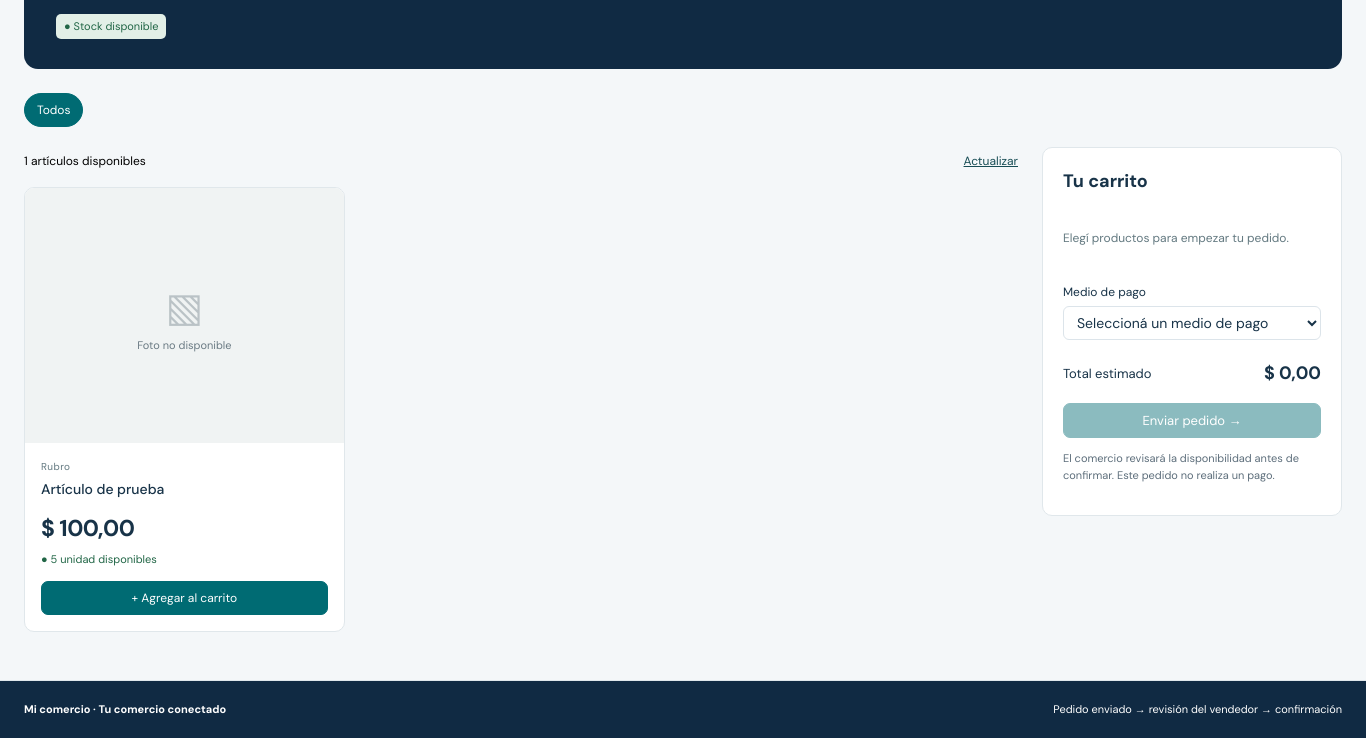
it: requires login before submitting an order
(page scrolled)
Click the button "+ Agregar al carrito": (184, 598) [41,581,328,615]
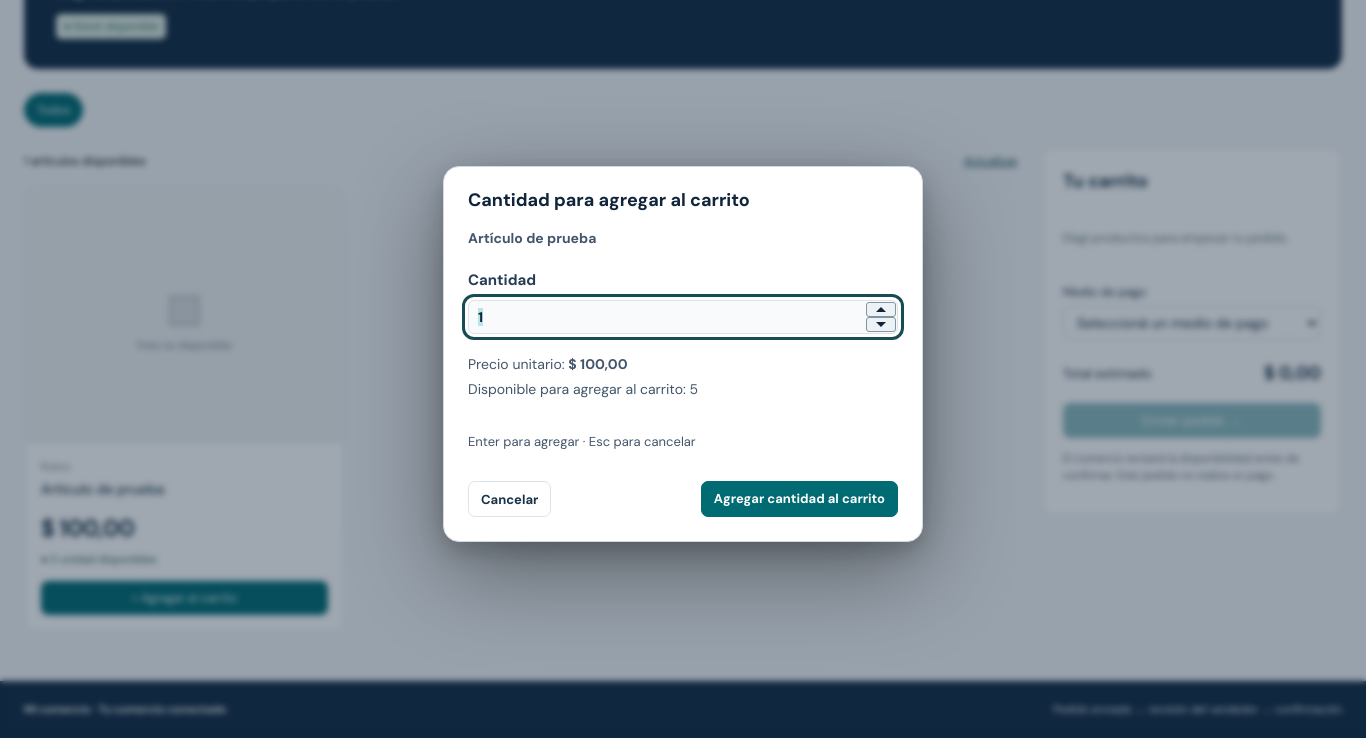
Click the button "Agregar cantidad al carrito": (799, 499) [701,481,898,517]
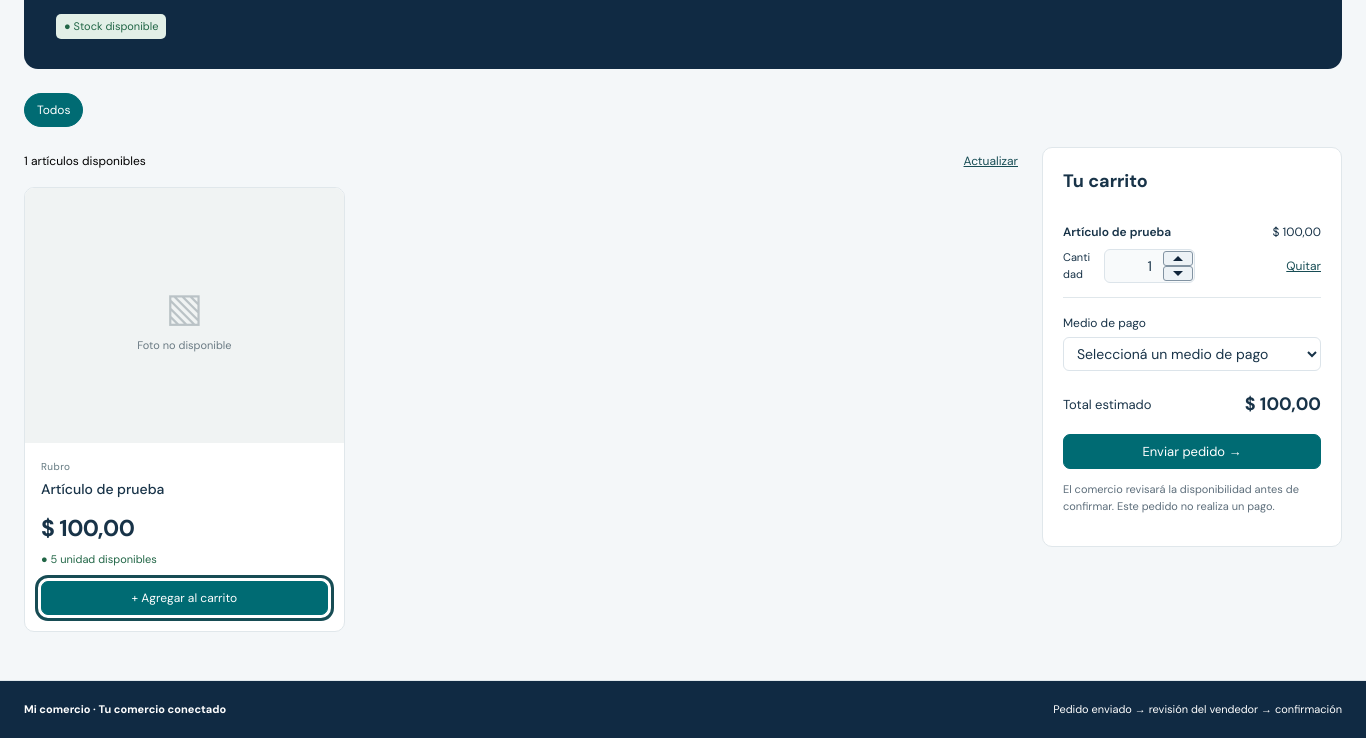
Select "Efectivo" in the dropdown labelled "Medio de pago": (1192, 354) [1063,337,1321,371]
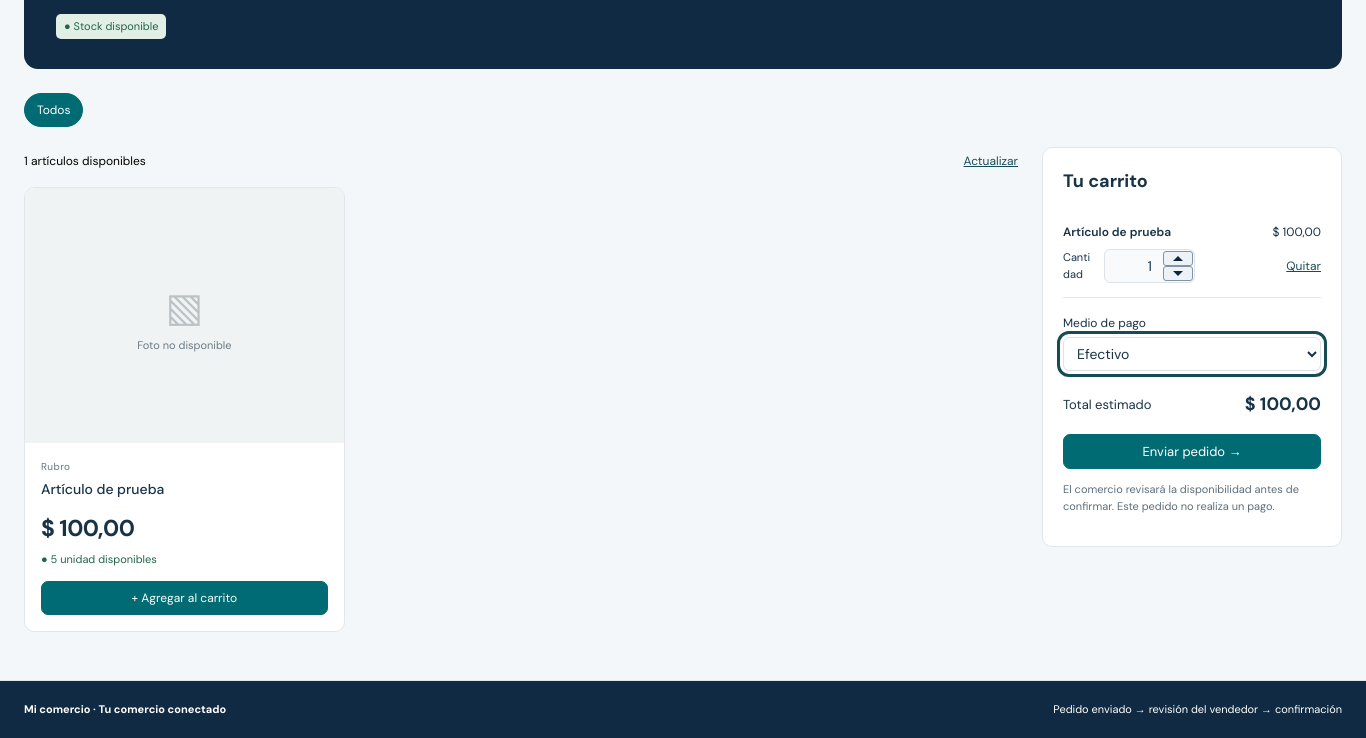
Click the button "Enviar pedido →": (1192, 452) [1063,434,1321,469]
(page scrolled)
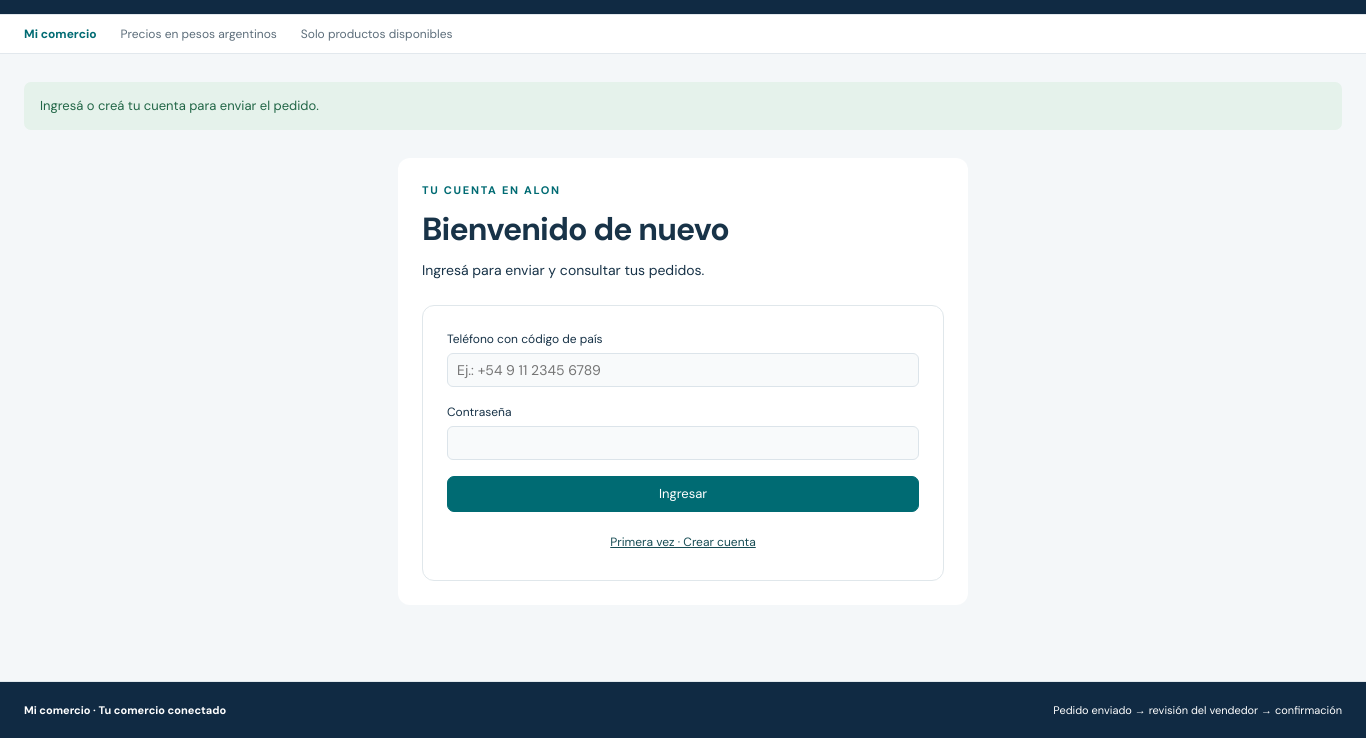
Now the heading "Bienvenido de nuevo" is shown, box [422,208,729,250]
